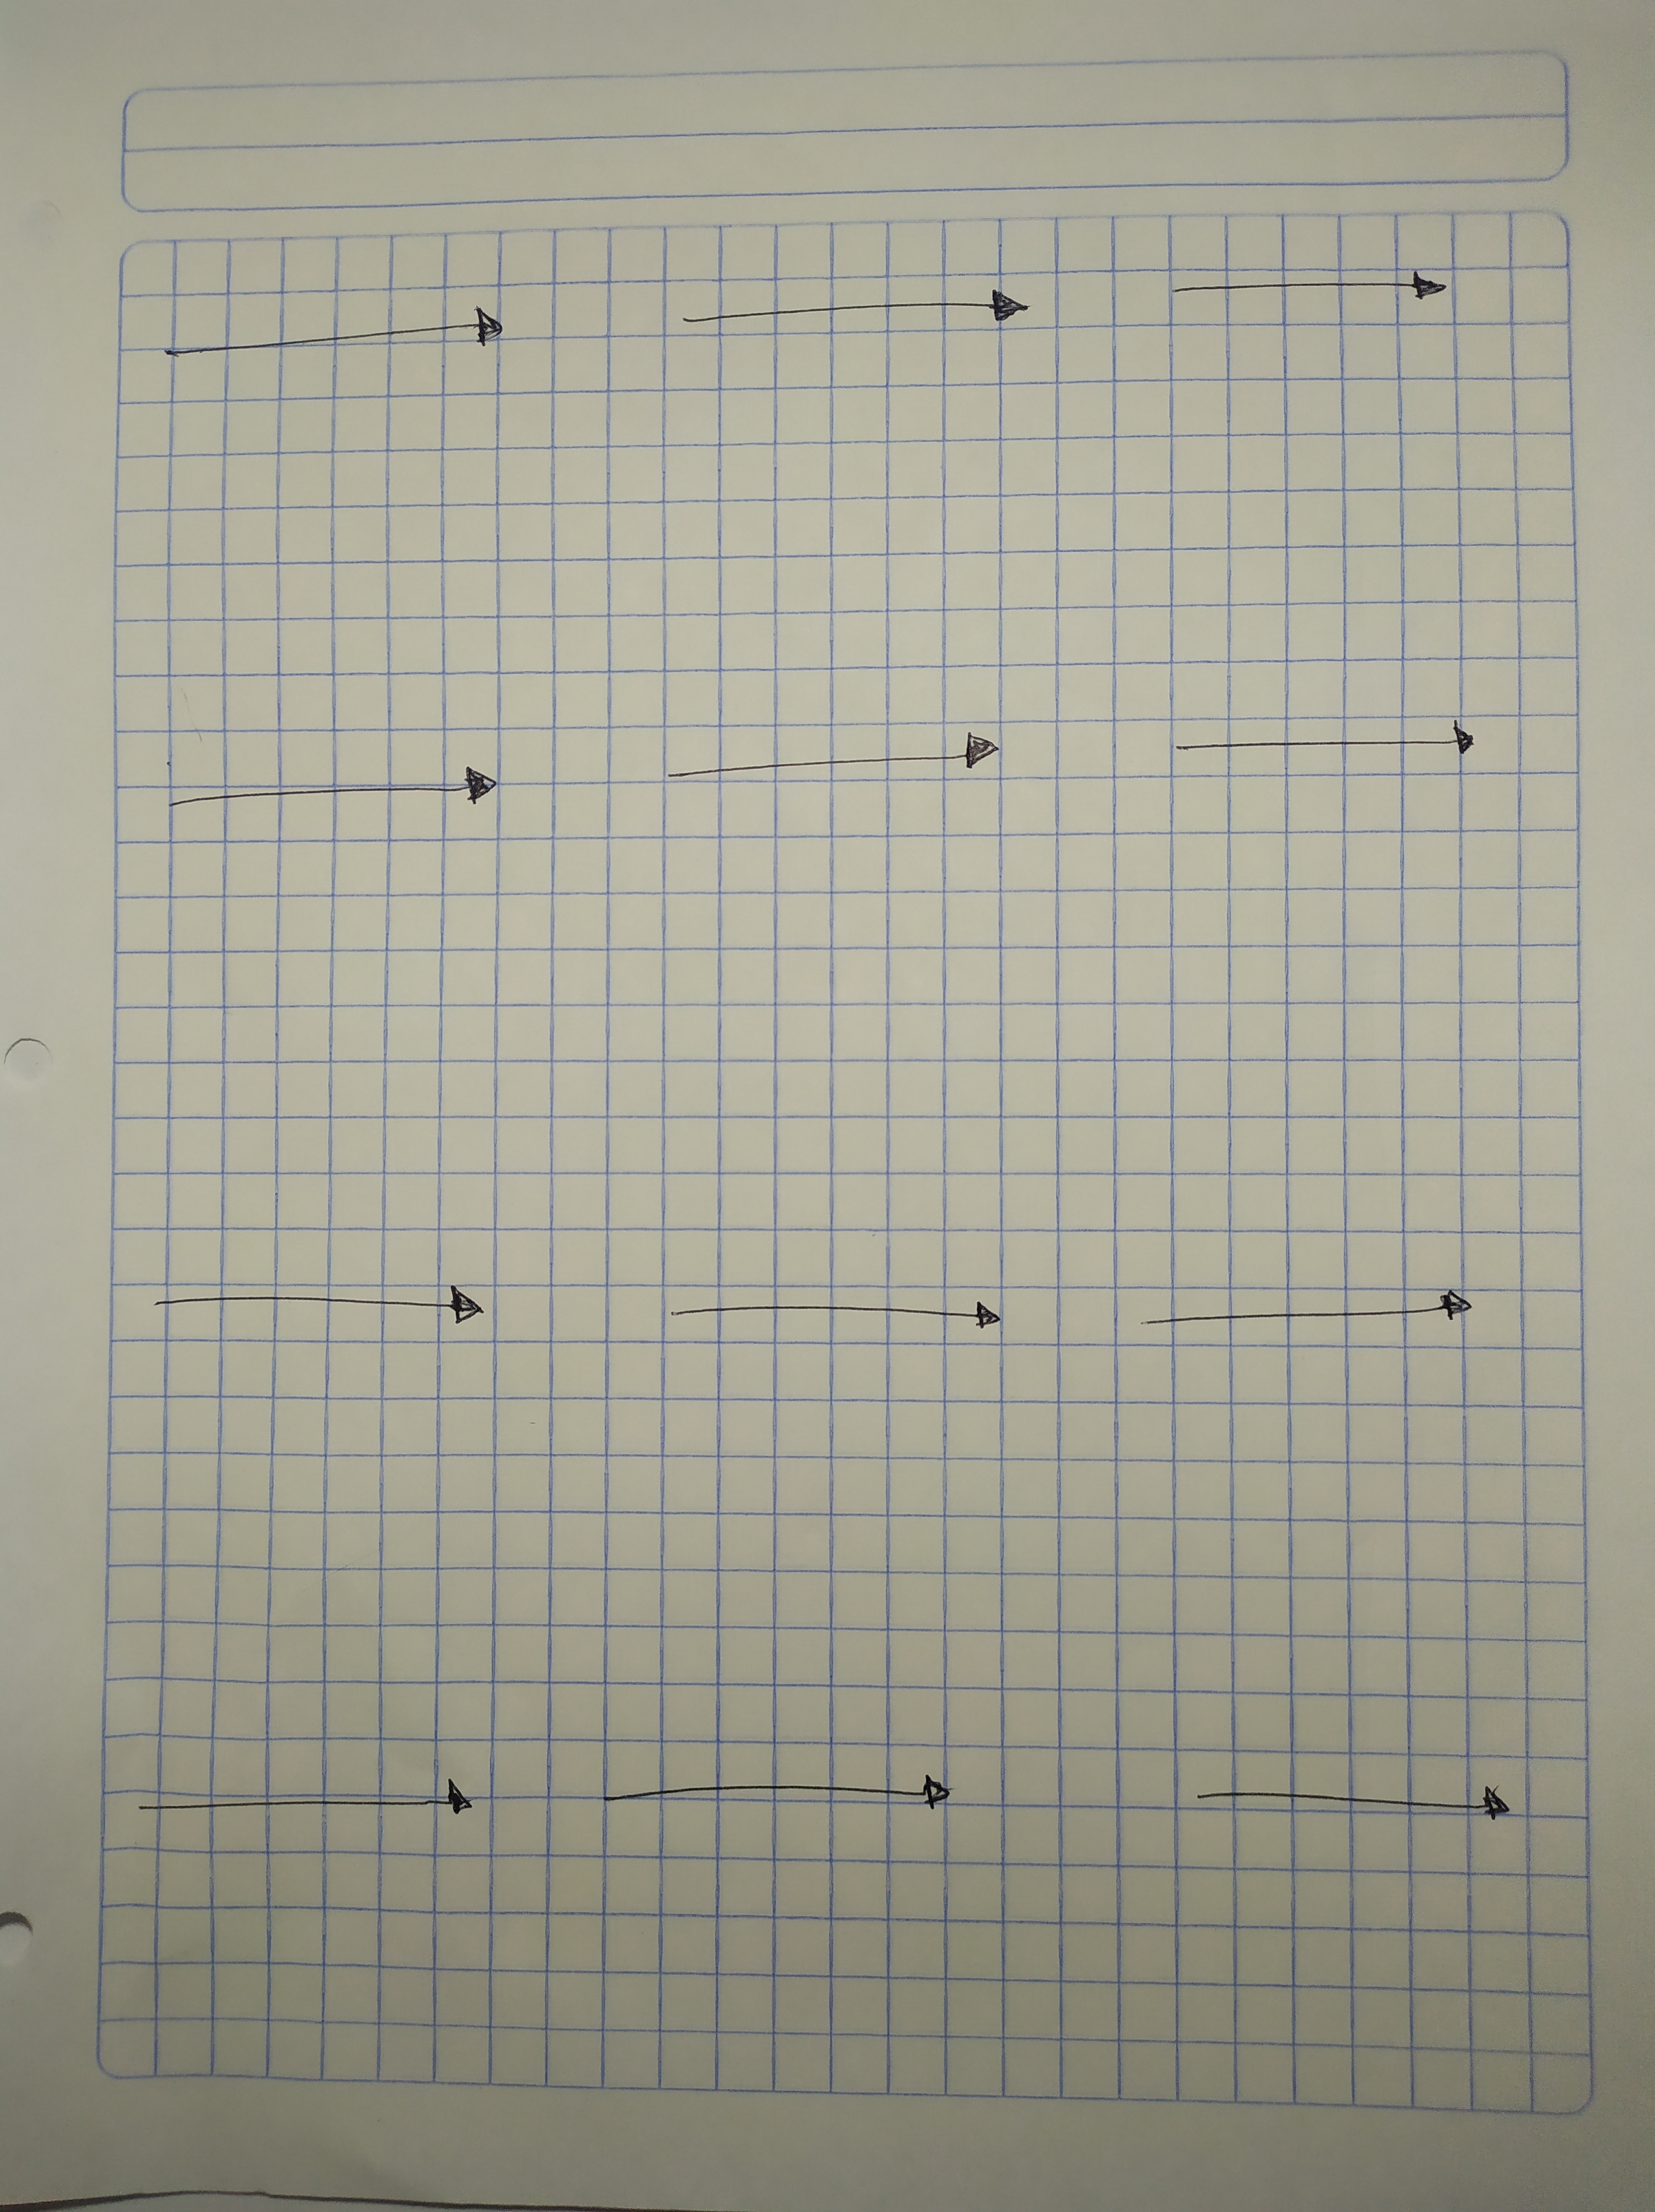arrow_line_right: (570, 1739, 1024, 1861), (1116, 1258, 1533, 1385), (111, 1253, 518, 1369), (123, 281, 530, 391), (643, 1255, 1014, 1374), (1142, 1745, 1547, 1851), (123, 1738, 501, 1851), (1142, 693, 1504, 805), (641, 712, 1017, 806), (144, 751, 535, 834), (1147, 250, 1485, 341), (650, 271, 1066, 342)
